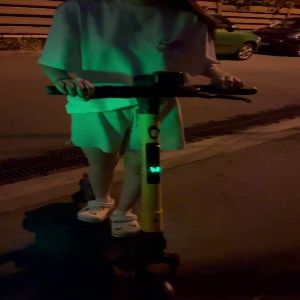human on a scooter: (33, 1, 259, 300)
